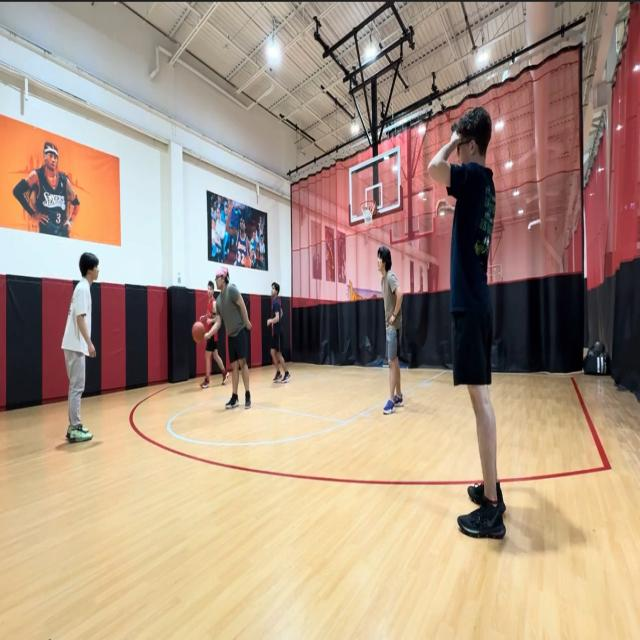Basketball: (192, 321, 205, 343)
Basketball Rim: (360, 199, 376, 225)
Player: (428, 106, 507, 542), (60, 250, 99, 442), (205, 265, 253, 408), (377, 245, 404, 415), (266, 281, 291, 384), (204, 280, 217, 393)
